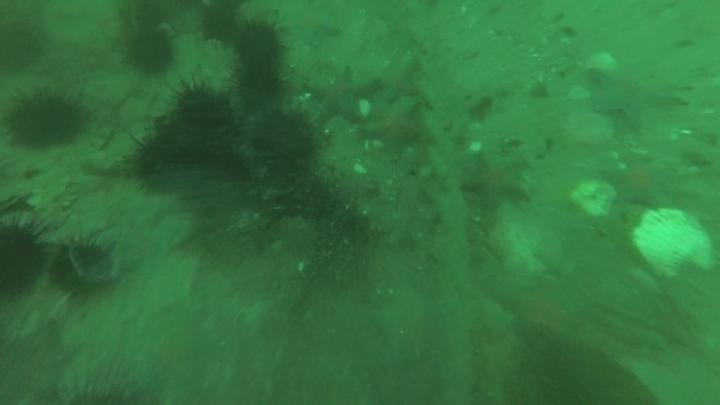echinus: (241, 106, 321, 184), (4, 87, 89, 152), (50, 357, 158, 405), (127, 126, 198, 196), (49, 235, 121, 296), (260, 168, 336, 224), (1, 215, 51, 299), (170, 80, 236, 136), (232, 18, 287, 66), (124, 27, 176, 77), (1, 18, 47, 74), (233, 63, 286, 107), (196, 3, 243, 47), (116, 1, 171, 32)
holothurian: (30, 166, 79, 232)
scallop: (630, 207, 716, 281)
starfish: (89, 194, 191, 279), (586, 63, 687, 131), (498, 277, 590, 349), (460, 150, 531, 213), (307, 64, 379, 124), (363, 96, 428, 157), (602, 156, 676, 209), (377, 56, 424, 104), (287, 10, 343, 49)
